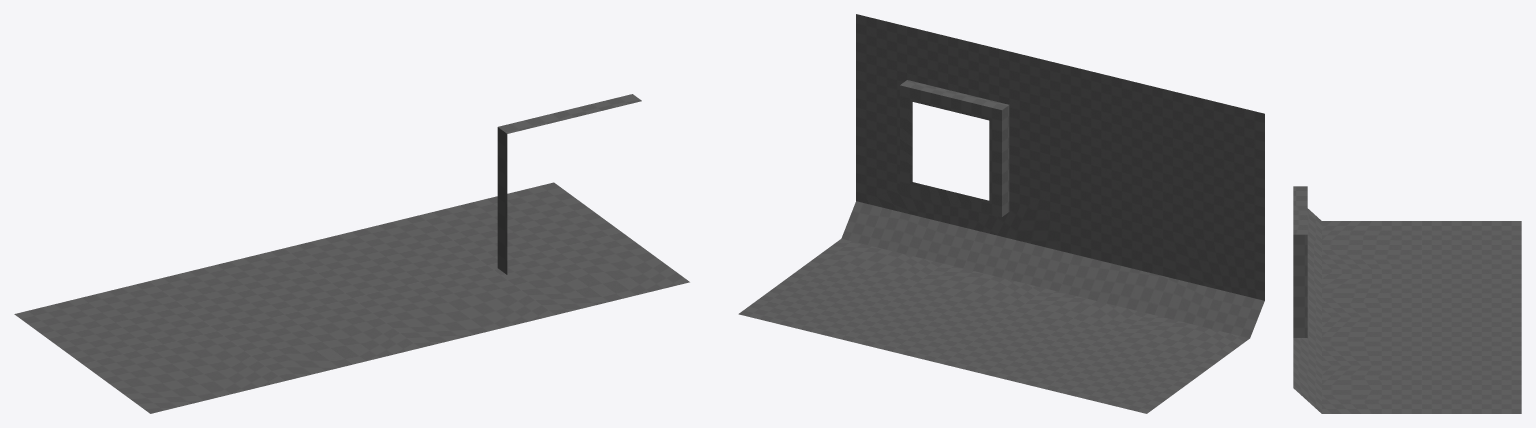
The picture shows the model from 3 angles, left to right: view 1: azimuth 30°, elevation 25°; view 2: azimuth 150°, elevation 25°; view 3: azimuth 270°, elevation 25°; orthographic projection. The views are drawn at different scales.
Parts seen in each view (by area): view 1: 1; view 2: 1; view 3: 1.
Part boxes in pixels (bbox=[...]): 1: bbox=[14, 94, 689, 413]; 1: bbox=[738, 14, 1264, 413]; 1: bbox=[1293, 186, 1521, 413].
Bounding box in the file's own units: 4 × 2 × 2.
Materials: 2 (2 with a texture image).
